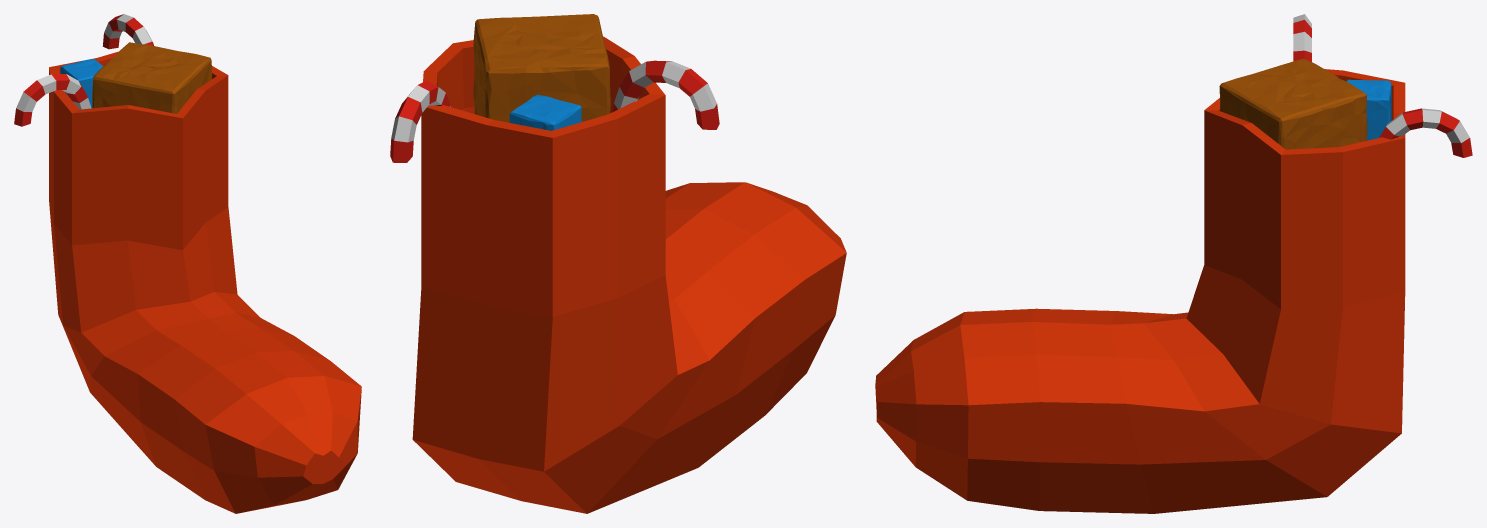
Rendered from Sock_1.fbx.
3 views of the same model, side by side, from view 1: azimuth 30°, elevation 25°; view 2: azimuth 150°, elevation 25°; view 3: azimuth 270°, elevation 25° (orthographic). The views are drawn at different scales.
Visible parts, largest first — view 1: Cube.005; view 2: Cube.005; view 3: Cube.005.
Boxes of the visible parts, x1=… form: Cube.005: x1=14, y1=14, x2=361, y2=513; Cube.005: x1=390, y1=14, x2=846, y2=513; Cube.005: x1=875, y1=14, x2=1472, y2=513.
Bounding box in the file's own units: 27.93 × 46.74 × 60.42.
